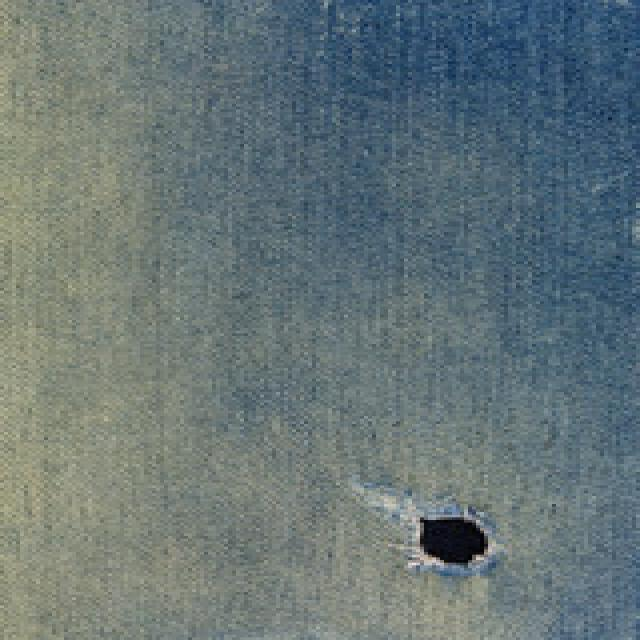Hole: (420, 519, 488, 565)
